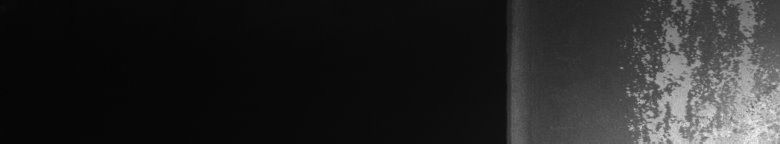kb: (620, 4, 764, 134)
